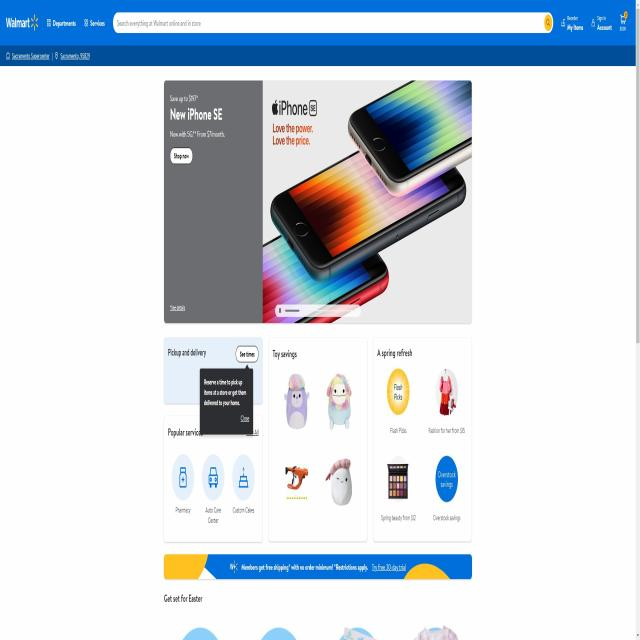menu-bar: (559, 5, 632, 39)
search: (111, 8, 554, 36)
tab-bar: (4, 4, 108, 38)
